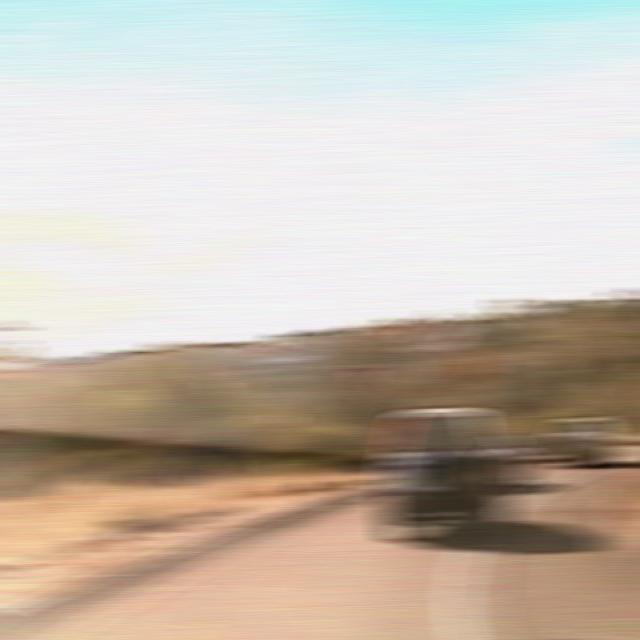yield: (344, 361, 382, 392)
